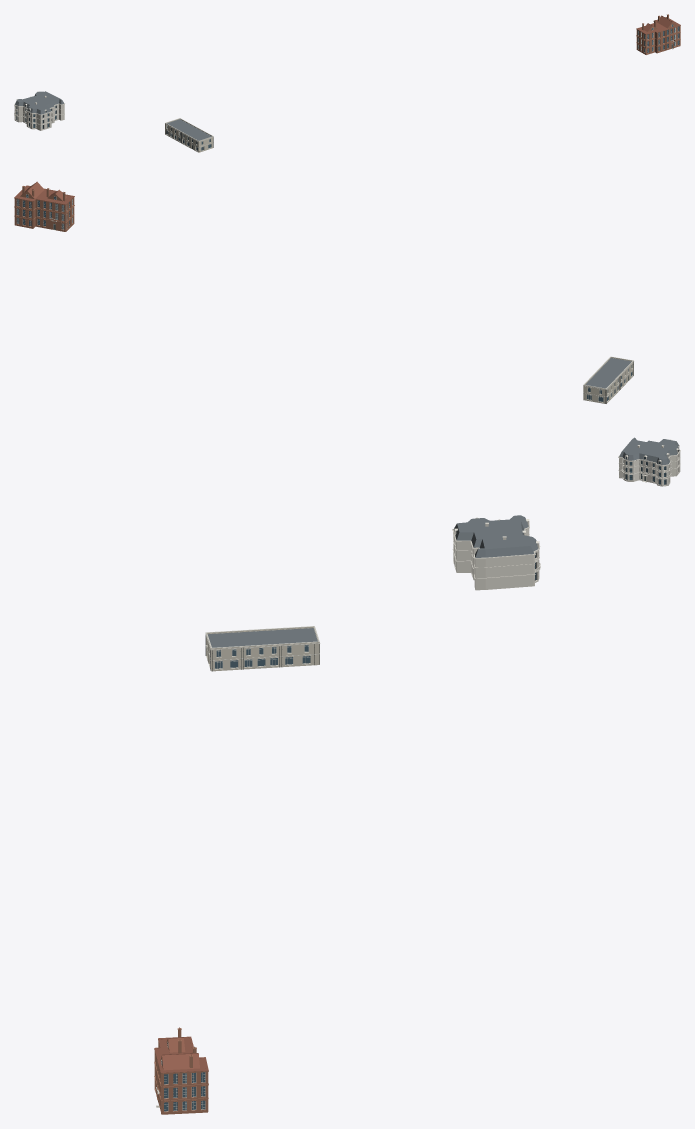
File: replacement.glb
3 views of the same model, one above another, from view 1: azimuth 30°, elevation 25°; view 2: azimuth 150°, elevation 25°; view 3: azimuth 270°, elevation 25° (orthographic). The views are drawn at different scales.
Visible parts, largest first — view 1: 25 Kensington Gore | pierced stucco envelope, 29 Exhibition Road | pierced brick walls, 41–45 Jay Mews | pierced masonry, 25 Kensington Gore | slate upper roof, 41–45 Jay Mews | concave roof membrane, 29 Exhibition Road | recessed sashes, 25 Kensington Gore | mansard perimeter; view 2: 29 Exhibition Road | pierced brick walls, 25 Kensington Gore | pierced stucco envelope, 25 Kensington Gore | slate upper roof, 41–45 Jay Mews | concave roof membrane, 41–45 Jay Mews | pierced masonry, 29 Exhibition Road | recessed sashes; view 3: 25 Kensington Gore | pierced stucco envelope, 41–45 Jay Mews | pierced masonry, 25 Kensington Gore | slate upper roof, 41–45 Jay Mews | concave roof membrane, 29 Exhibition Road | pierced brick walls, 25 Kensington Gore | mansard perimeter.
Boxes of the visible parts, x1,y1,x2,y2 form: 25 Kensington Gore | pierced stucco envelope: [15, 104, 64, 130]; 29 Exhibition Road | pierced brick walls: [637, 22, 679, 54]; 41–45 Jay Mews | pierced masonry: [165, 119, 213, 152]; 25 Kensington Gore | slate upper roof: [17, 91, 61, 110]; 41–45 Jay Mews | concave roof membrane: [167, 119, 211, 140]; 29 Exhibition Road | recessed sashes: [638, 26, 679, 52]; 25 Kensington Gore | mansard perimeter: [15, 93, 64, 114]; 29 Exhibition Road | pierced brick walls: [15, 198, 73, 231]; 25 Kensington Gore | pierced stucco envelope: [619, 447, 680, 486]; 25 Kensington Gore | slate upper roof: [622, 437, 677, 459]; 41–45 Jay Mews | concave roof membrane: [585, 358, 631, 388]; 41–45 Jay Mews | pierced masonry: [583, 357, 633, 403]; 29 Exhibition Road | recessed sashes: [16, 199, 72, 229]; 25 Kensington Gore | pierced stucco envelope: [454, 528, 538, 590]; 41–45 Jay Mews | pierced masonry: [206, 627, 319, 671]; 25 Kensington Gore | slate upper roof: [457, 515, 535, 549]; 41–45 Jay Mews | concave roof membrane: [207, 628, 317, 647]; 29 Exhibition Road | pierced brick walls: [155, 1039, 207, 1114]; 25 Kensington Gore | mansard perimeter: [453, 518, 538, 557].
Bounding box in the file's own units: 378 × 17.3 × 110.
